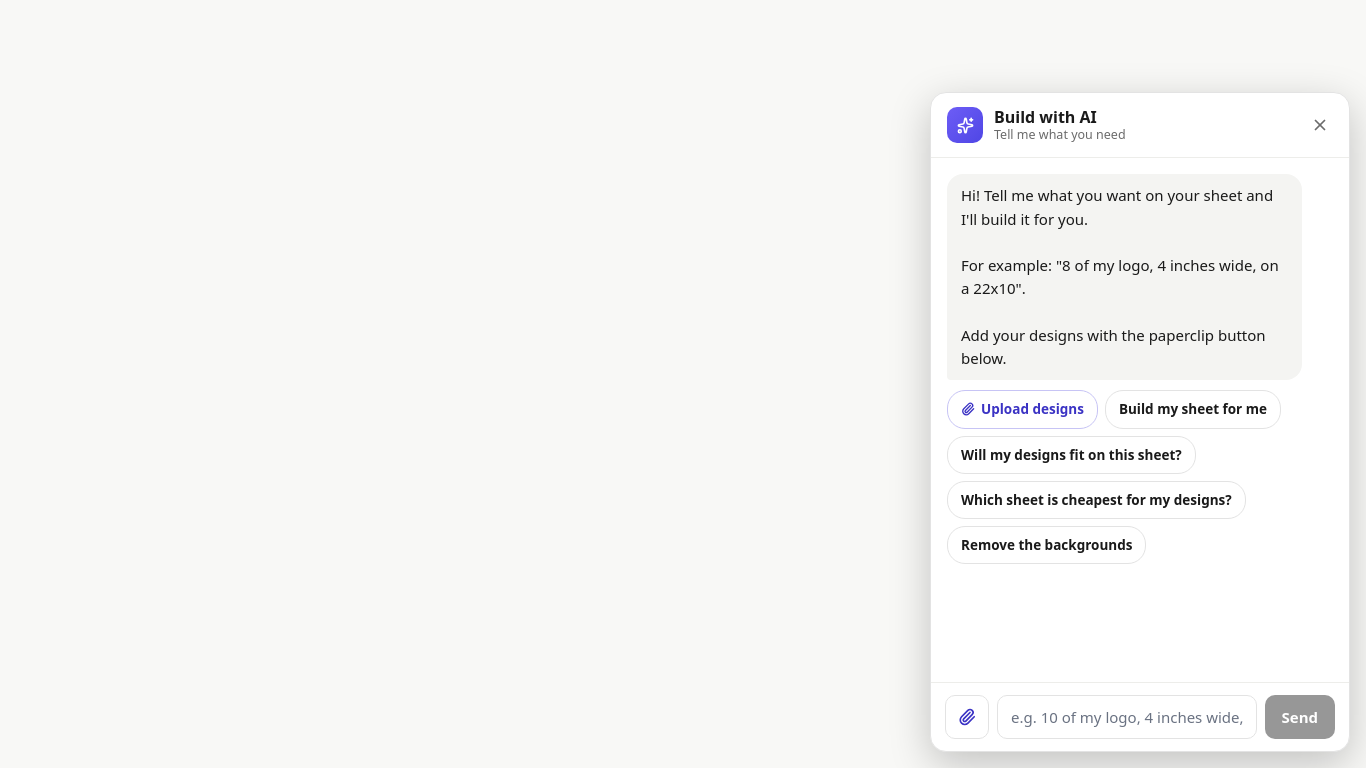
Test: the gang sheet builder's assistant › says a busy AI calmly and stays on
The width and height of the screenshot is (1366, 768).
Type "Build my sheet for me" into the field with placeholder "e.g. 10 of my logo, 4 inches wide, on a 22x10". click: (1127, 717)
box: [997,695,1256,739]
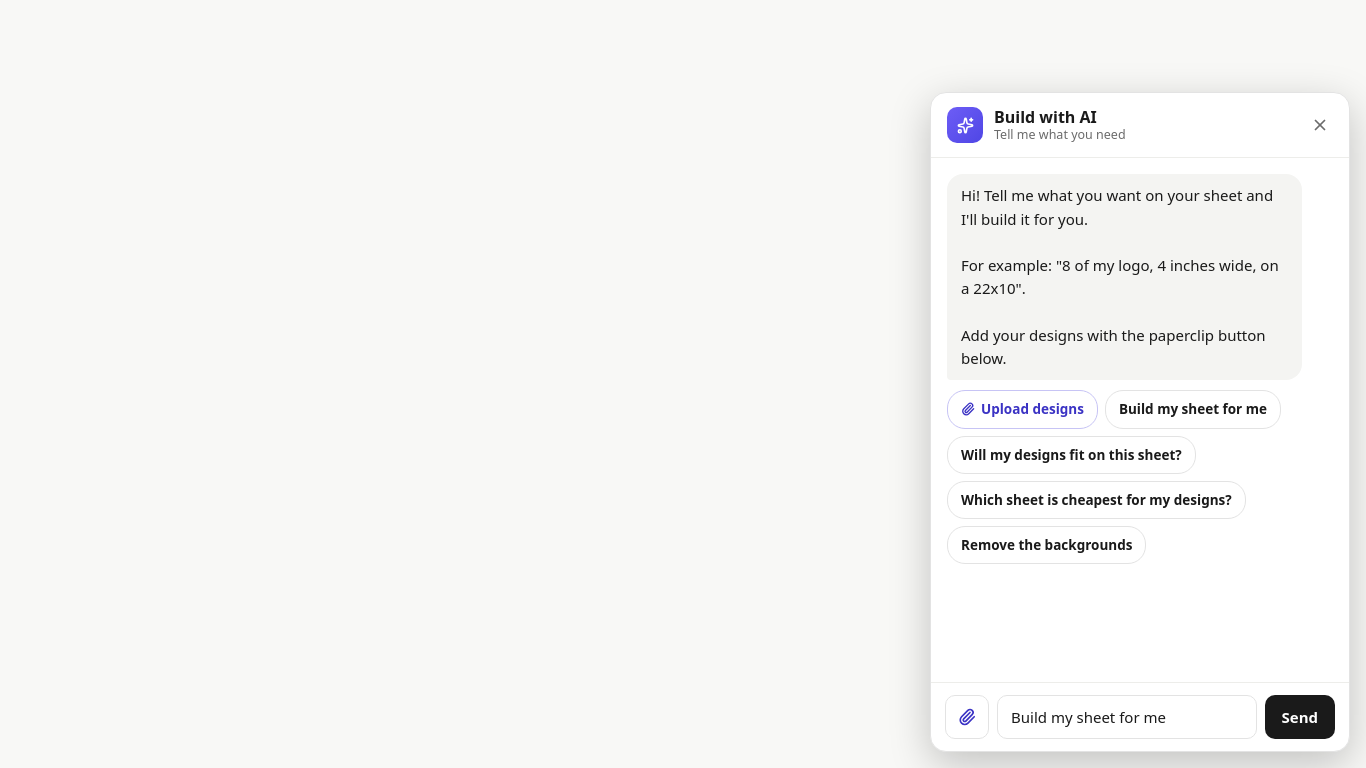
Click the button "Send". click: (1300, 717)
box: [1264,695,1335,739]
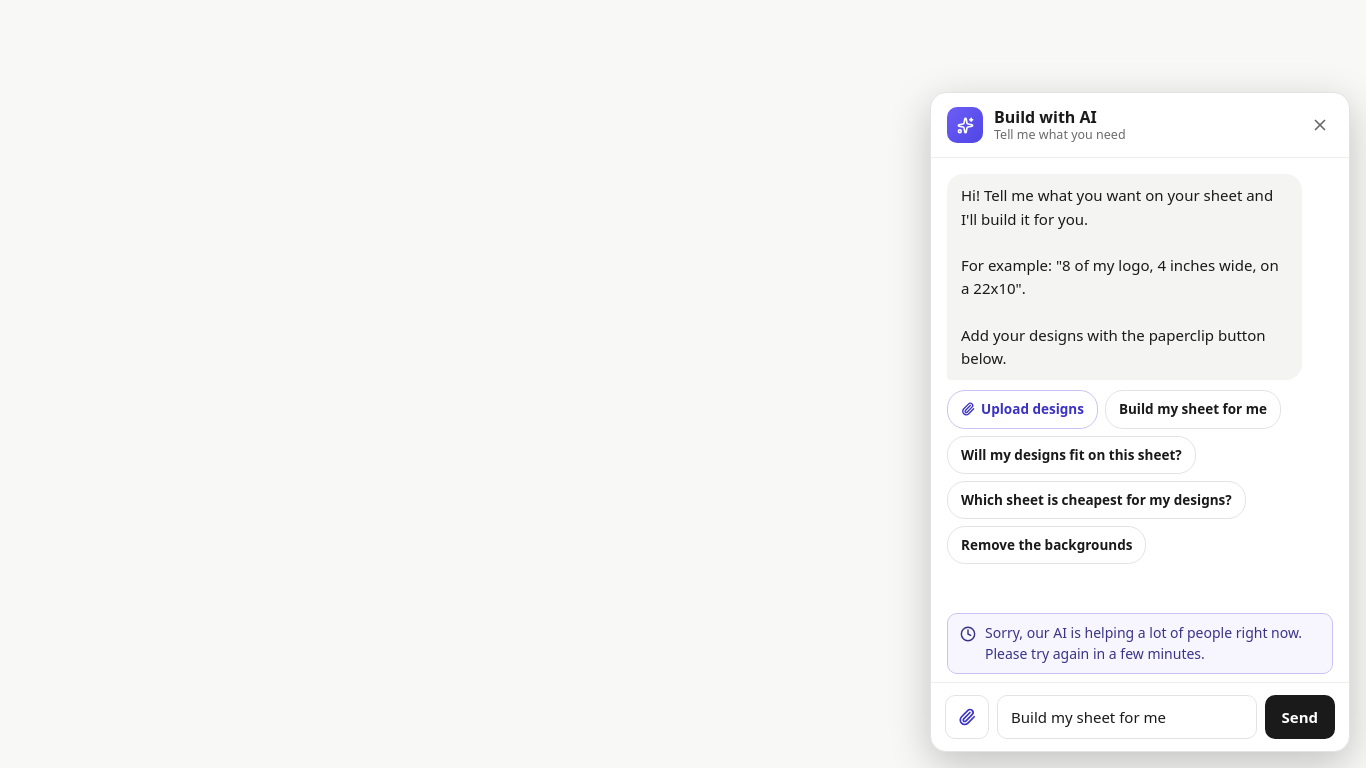
Expected: the field with placeholder "e.g. 10 of my logo, 4 inches wide, on a 22x10" is enabled, [997,695,1256,739]
Now the message shows "Sorry, our AI is helping a lot of people right now. Please try again in a few minutes.", box [985,623,1302,663]
